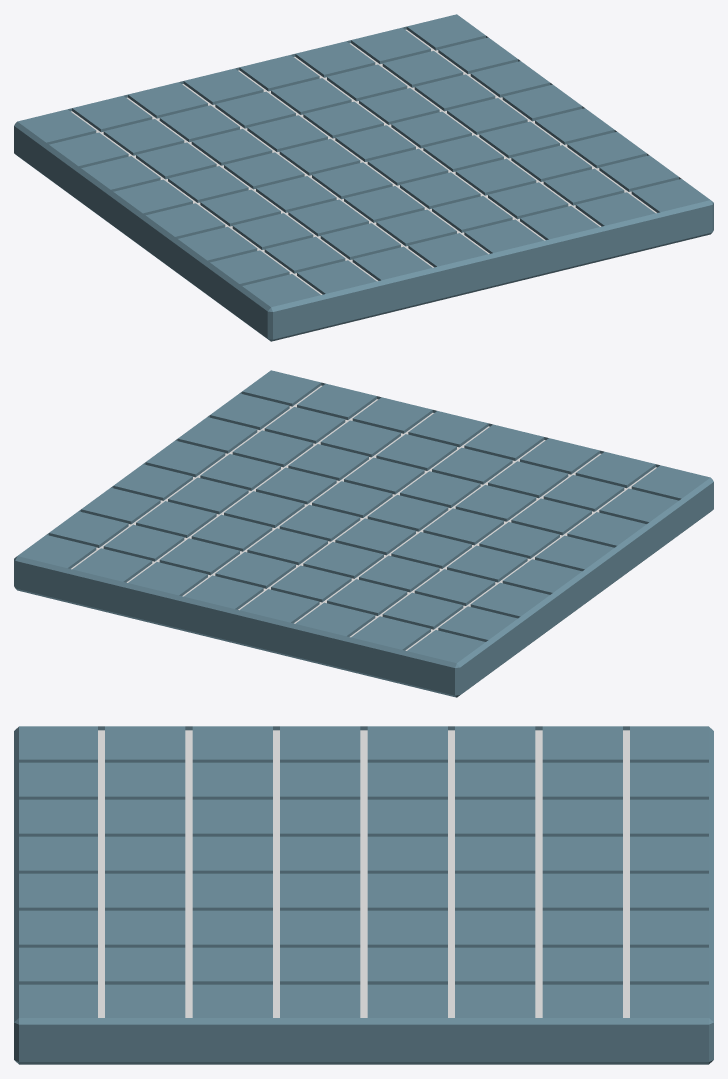
File: Bathroom_Floor.fbx
The picture shows the model from 3 angles, top to bottom: view 1: azimuth 30°, elevation 25°; view 2: azimuth 150°, elevation 25°; view 3: azimuth 270°, elevation 25°; orthographic projection. The views are drawn at different scales.
Visible parts, largest first — view 1: pCube1; view 2: pCube1; view 3: pCube1.
Boxes of the visible parts, box(x1,y1,x2,y2) form: pCube1: box(14, 14, 713, 341); pCube1: box(14, 370, 713, 697); pCube1: box(14, 726, 713, 1064).
Bounding box in the file's own units: 15.35 × 1.13 × 15.35.
